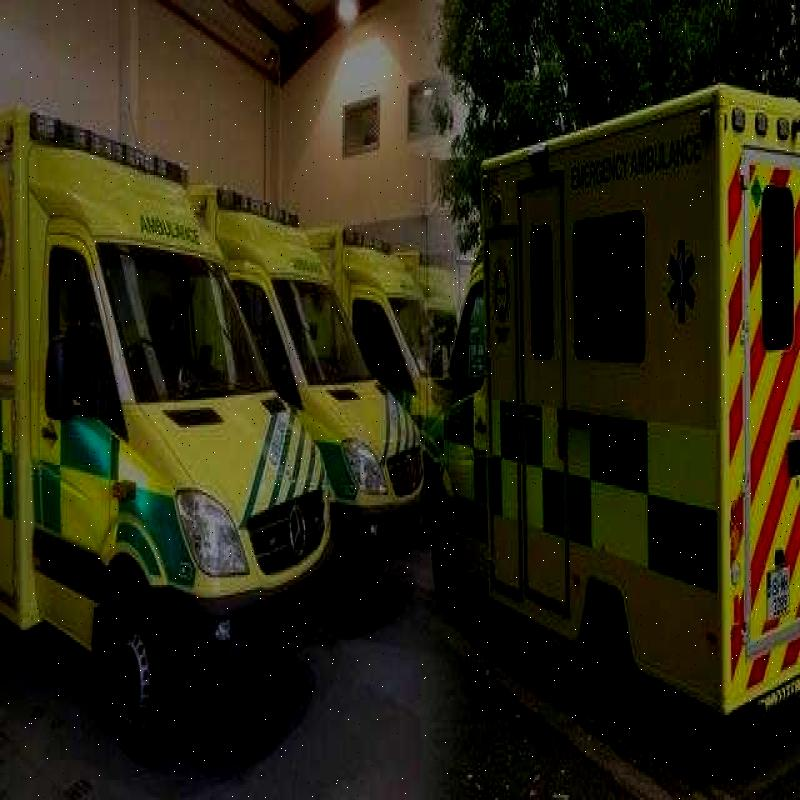AmbulanceSiren: (23, 98, 196, 199), (213, 184, 303, 230)
